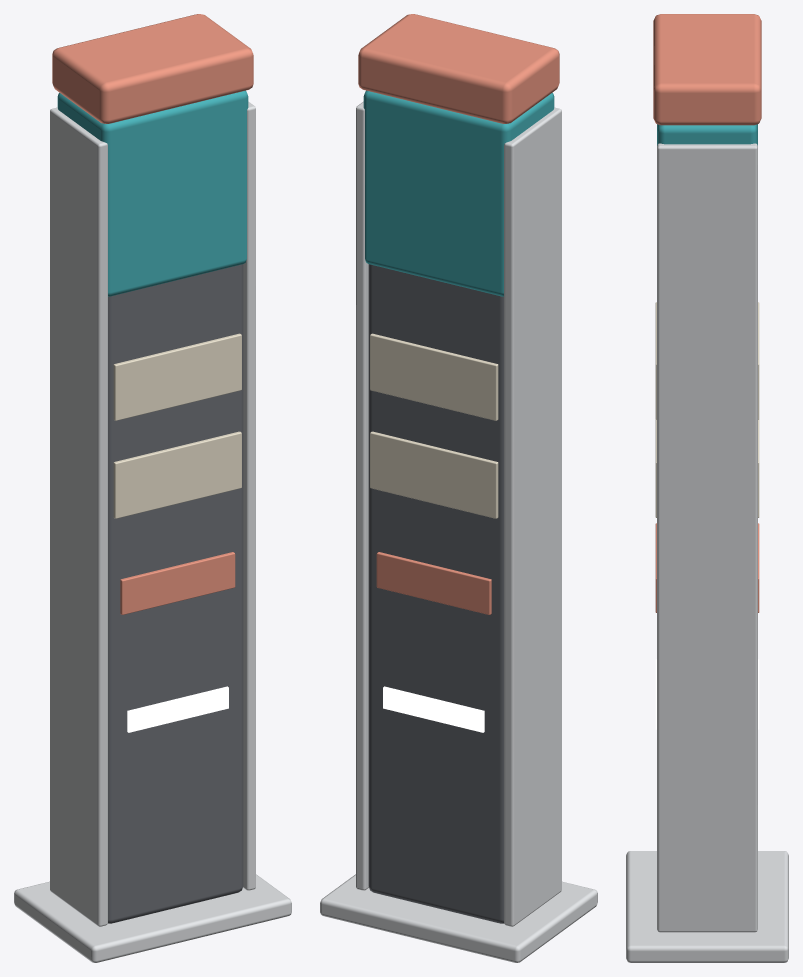
The model's file is public-aquarium-and-marine-centre-wayfinding-totem-27df65f9.glb.
3 views of the same model, side by side, from view 1: azimuth 30°, elevation 25°; view 2: azimuth 150°, elevation 25°; view 3: azimuth 270°, elevation 25° (orthographic).
Visible parts, largest first — view 1: wayfinding-totem; view 2: wayfinding-totem; view 3: wayfinding-totem.
Part boxes in pixels (x1,y1,x2,y2): wayfinding-totem: [14, 14, 291, 962]; wayfinding-totem: [320, 14, 597, 962]; wayfinding-totem: [626, 14, 788, 962].
Bounding box in the file's own units: 0.6001 × 2.47 × 0.42.
